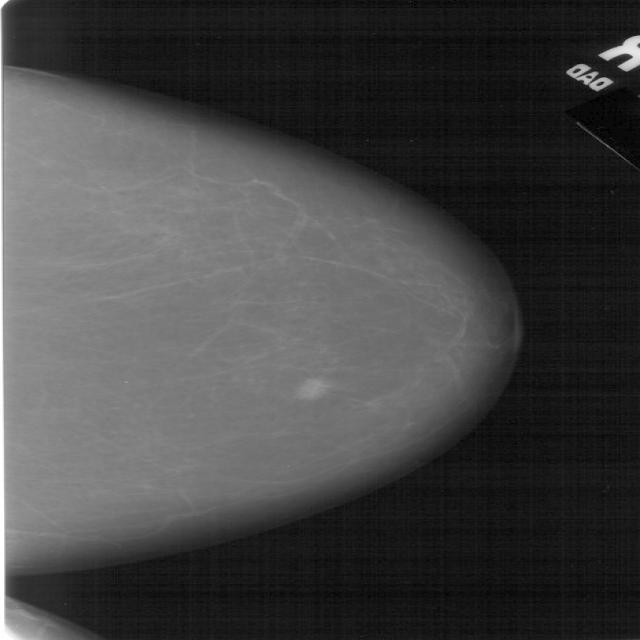tumour: (293, 375, 326, 401)
